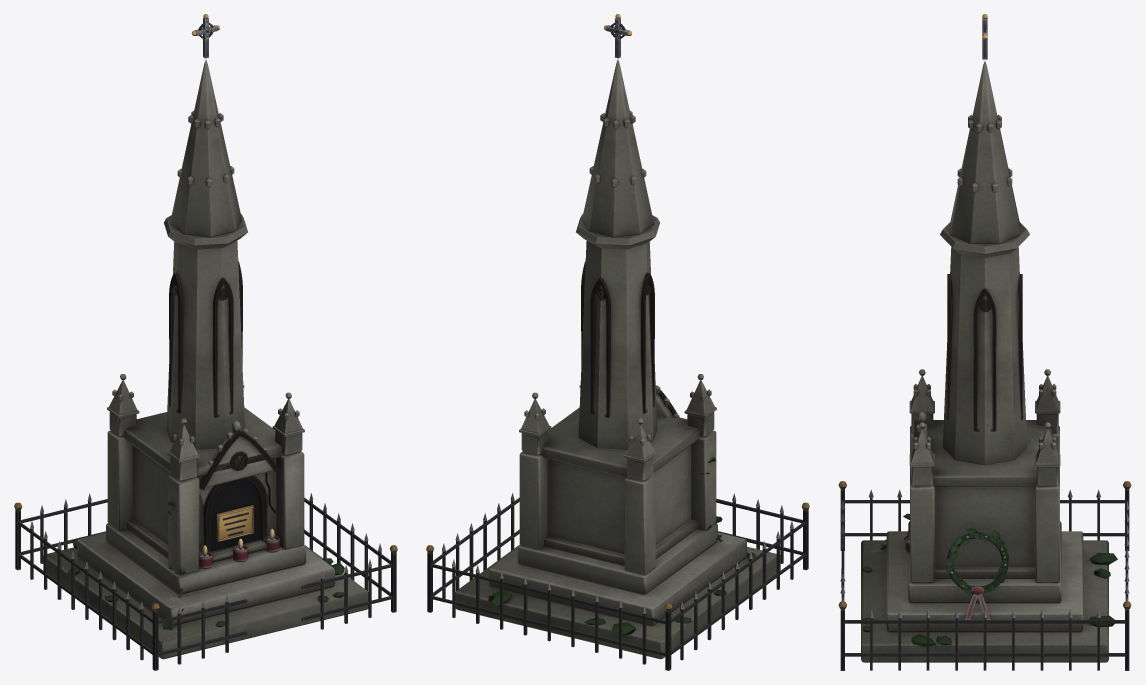
File: Memorial.fbx
The picture shows the model from 3 angles, left to right: view 1: azimuth 30°, elevation 25°; view 2: azimuth 150°, elevation 25°; view 3: azimuth 270°, elevation 25°; orthographic projection. The views are drawn at different scales.
Visible parts, largest first — view 1: Memorial_Main; view 2: Memorial_Main; view 3: Memorial_Main.
Part boxes in pixels (x1,y1,x2,y2): Memorial_Main: (14, 14, 397, 670); Memorial_Main: (426, 14, 809, 670); Memorial_Main: (838, 14, 1131, 670).
Size of the model in its own units: 402 by 904 by 402.
